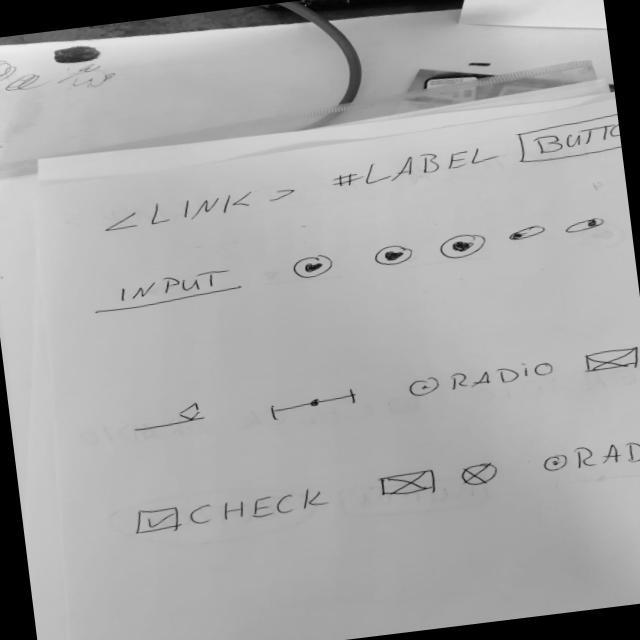button: (511, 109, 622, 164)
checkbox: (128, 484, 332, 536)
icon-button: (434, 228, 490, 262), (365, 240, 418, 269), (288, 250, 337, 281)
image: (375, 467, 439, 498), (579, 344, 640, 374), (458, 460, 501, 487)
input: (87, 264, 245, 316)
label: (324, 142, 506, 192)
link: (96, 184, 300, 234)
number-input: (128, 399, 210, 434)
radio: (406, 357, 556, 399), (540, 434, 640, 475)
slider: (260, 385, 364, 421)
toggle: (560, 215, 610, 235), (504, 222, 550, 242)
